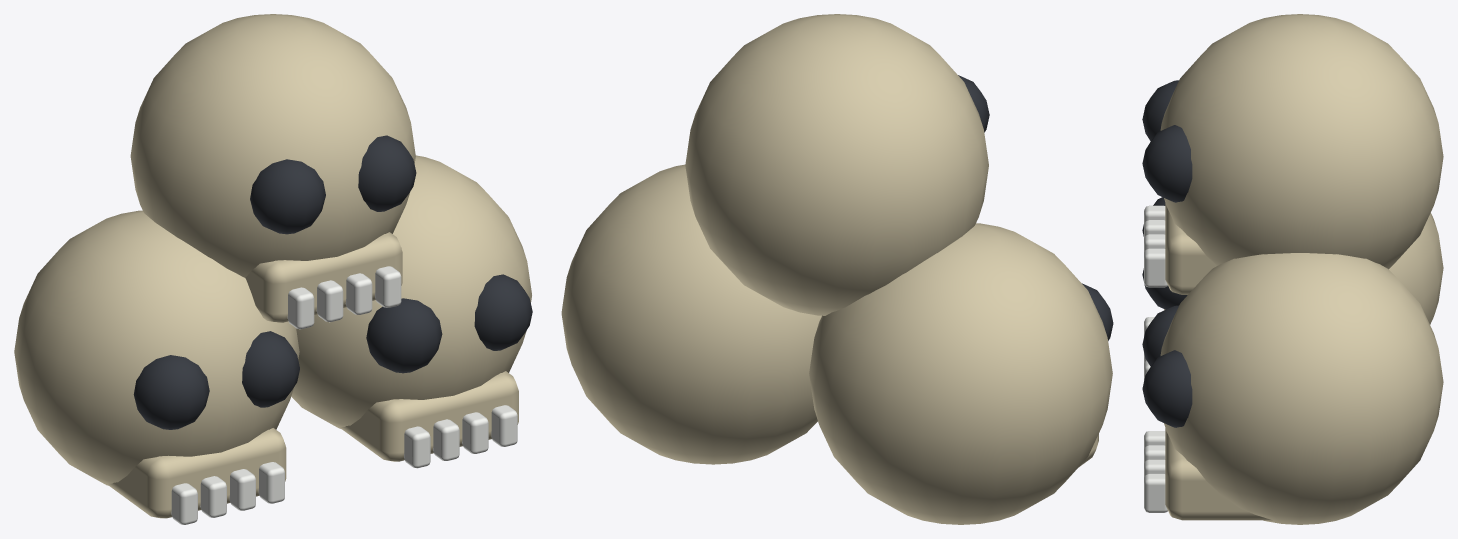
The model's file is arena-shooter-map-kit-skull-pile-8d57b145__23146.glb.
3 renders of one model, left to right at view 1: azimuth 30°, elevation 25°; view 2: azimuth 150°, elevation 25°; view 3: azimuth 270°, elevation 25°, orthographic. The views are drawn at different scales.
Visible parts, largest first — view 1: skull-pile; view 2: skull-pile; view 3: skull-pile.
Part boxes in pixels (x1,y1,x2,y2): skull-pile: (14, 14, 532, 524); skull-pile: (561, 14, 1113, 524); skull-pile: (1142, 14, 1443, 524).
Size of the model in its own units: 0.66 by 0.56 by 0.357.
